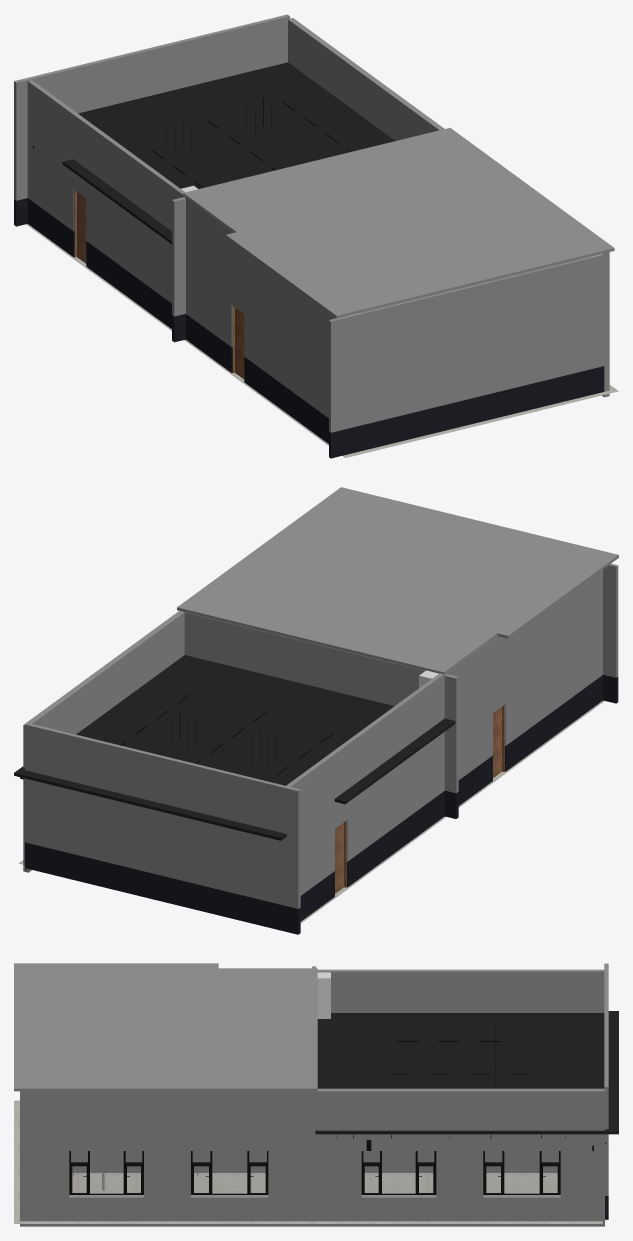
Rendered from boli_fangjian.fbx.
3 views of the same model, one above another, from view 1: azimuth 30°, elevation 25°; view 2: azimuth 150°, elevation 25°; view 3: azimuth 270°, elevation 25° (orthographic). The views are drawn at different scales.
Visible parts, largest first — view 1: wuding, qiangmian_01, wuding001, qiangmian_006, qiangmian_02, qiangmian_007, qiangmian_008, qiangmian_03, dimian, men001, men, qiangmian_04; view 2: wuding, qiangmian_007, wuding001, qiangmian_006, qiangmian_02, qiangmian_03, qiangmian_008, qiangmian_01, men001, men; view 3: wuding, qiangmian_04, qiangmian_008, wuding001, qiangmian_006, chuanghu_boli, chuanghu_boli001, dimian, dimian001, chuanghu001, chuanghu, chuangmian_02 (+5 smaller).
Boxes of the visible parts, x1,y1,x2,y2 form: wuding: (183, 128, 614, 318); qiangmian_01: (329, 254, 604, 458); wuding001: (62, 62, 394, 243); qiangmian_006: (27, 80, 184, 328); qiangmian_02: (185, 196, 335, 443); qiangmian_007: (14, 14, 289, 226); qiangmian_008: (288, 18, 444, 140); qiangmian_03: (172, 197, 185, 342); dimian: (184, 339, 618, 457); men001: (74, 190, 86, 263); men: (232, 306, 244, 379); qiangmian_04: (602, 252, 609, 397); wuding: (177, 487, 618, 673); qiangmian_007: (25, 722, 300, 934); wuding001: (14, 655, 455, 840); qiangmian_006: (286, 673, 445, 921); qiangmian_02: (446, 570, 602, 805); qiangmian_03: (184, 612, 458, 818); qiangmian_008: (23, 611, 184, 872); qiangmian_01: (603, 563, 618, 703); men001: (335, 820, 346, 893); men: (493, 705, 504, 777); wuding: (14, 963, 317, 1091); qiangmian_04: (20, 1091, 312, 1226); qiangmian_008: (312, 1088, 604, 1226); wuding001: (315, 1011, 618, 1134); qiangmian_006: (317, 969, 604, 1012); chuanghu_boli: (71, 1151, 266, 1193); chuanghu_boli001: (364, 1151, 558, 1193); dimian: (14, 1100, 310, 1223); dimian001: (310, 1173, 607, 1223); chuanghu001: (361, 1151, 560, 1194); chuanghu: (69, 1151, 268, 1194); chuangmian_02: (192, 1151, 266, 1172).
Size of the model in its own units: 10650 by 5277 by 20877.
